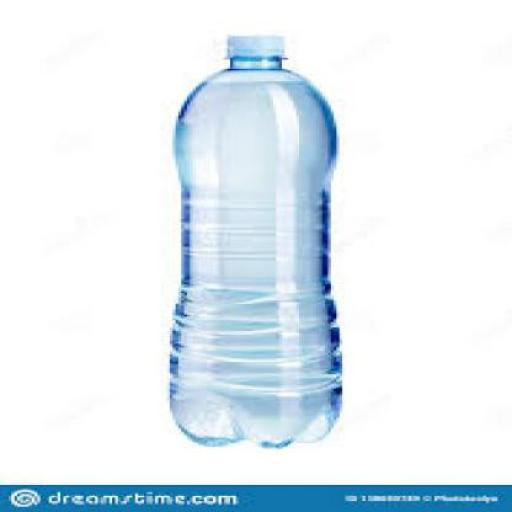plastic: (167, 32, 343, 448), (221, 35, 282, 59)
